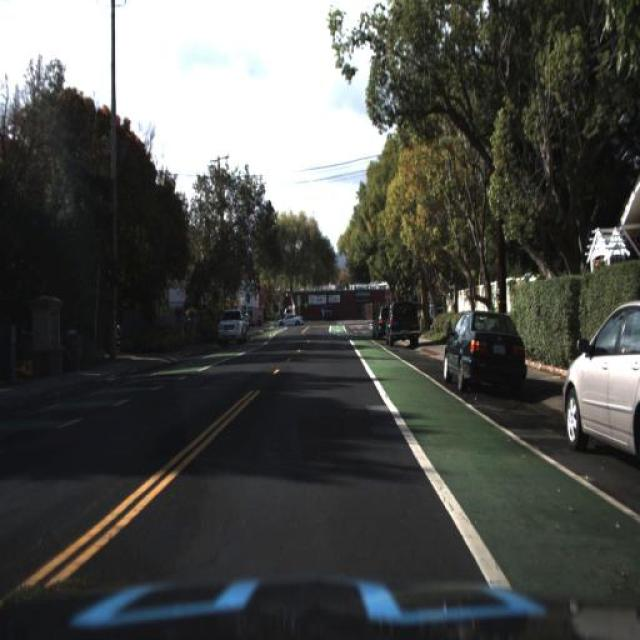car: (562, 298, 640, 466), (440, 306, 526, 404), (386, 301, 422, 349), (213, 308, 246, 346), (274, 307, 304, 332)
